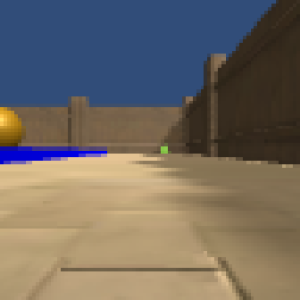goodGoal: (157, 144, 170, 156)
goodGoalMulti: (1, 105, 26, 150)
platform: (1, 147, 110, 165)
